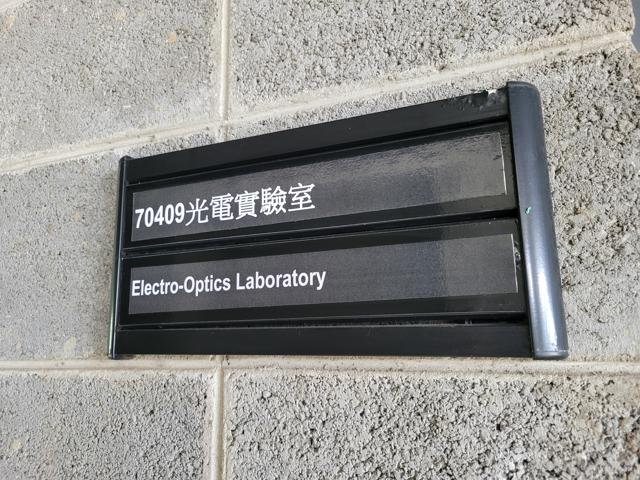doorplate: (96, 75, 572, 367)
